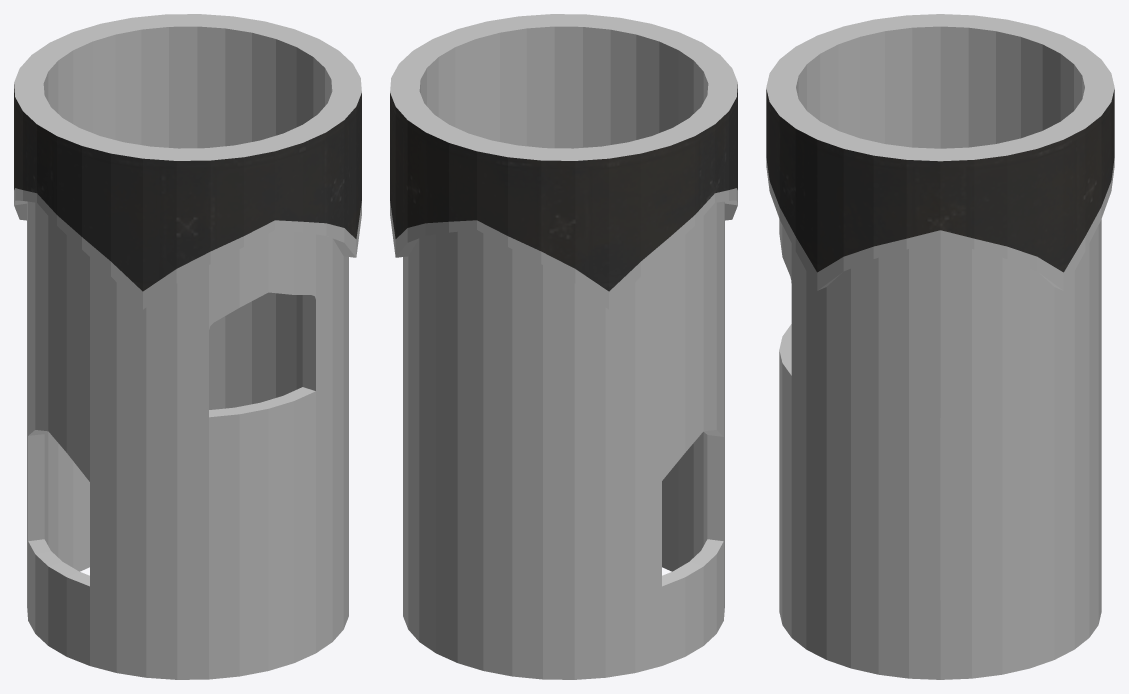
The model's file is towerparts_with_openings.fbx.
3 renders of one model, left to right at view 1: azimuth 30°, elevation 25°; view 2: azimuth 150°, elevation 25°; view 3: azimuth 270°, elevation 25°, orthographic.
Visible parts, largest first — view 1: towerbasewithOpening2, towerbasewithOpening; view 2: towerbasewithOpening2, towerbasewithOpening; view 3: towerbasewithOpening2, towerbasewithOpening.
Part boxes in pixels (box(x1,y1,x2,y2)): towerbasewithOpening2: box(14, 14, 361, 417); towerbasewithOpening: box(27, 297, 348, 679); towerbasewithOpening2: box(390, 14, 737, 417); towerbasewithOpening: box(403, 346, 724, 679); towerbasewithOpening2: box(766, 14, 1114, 417); towerbasewithOpening: box(779, 324, 1101, 679).
Size of the model in its own units: 241 by 400 by 241.
